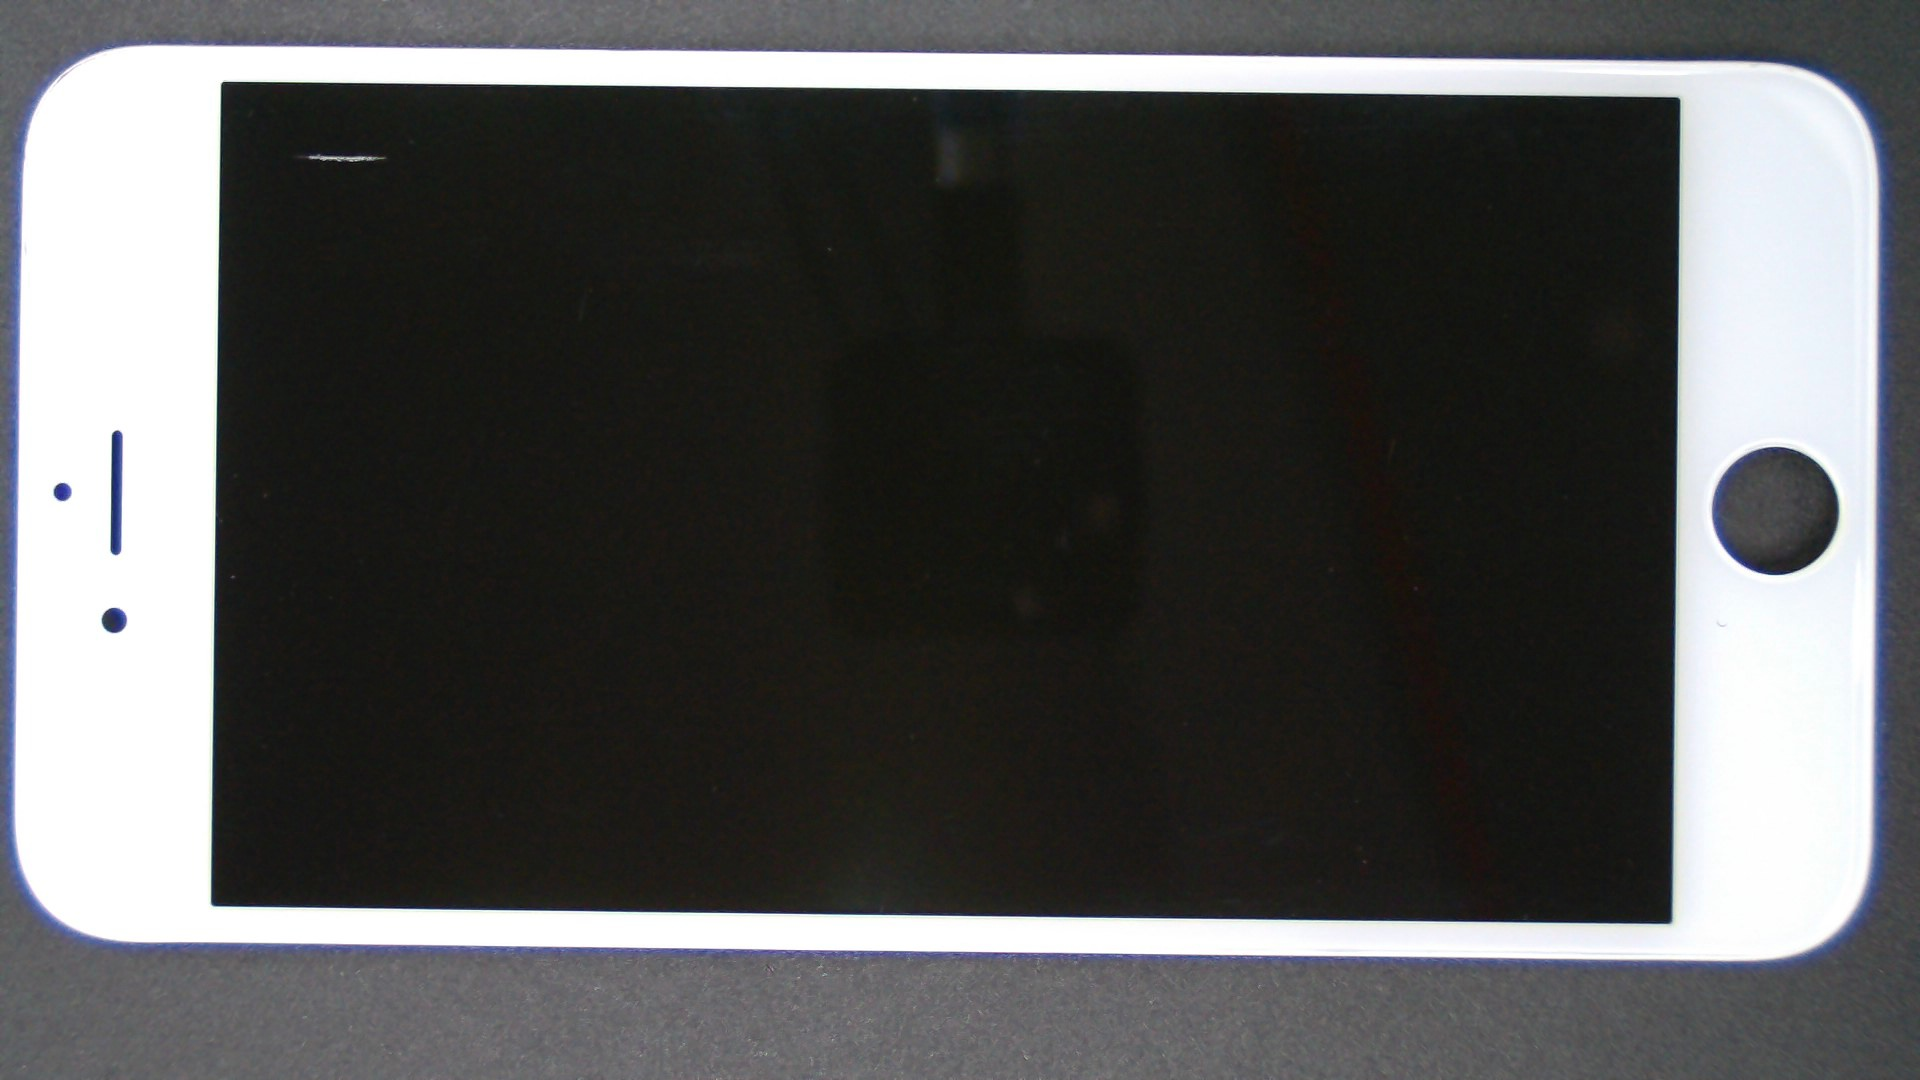oil: (157, 76, 471, 232)
